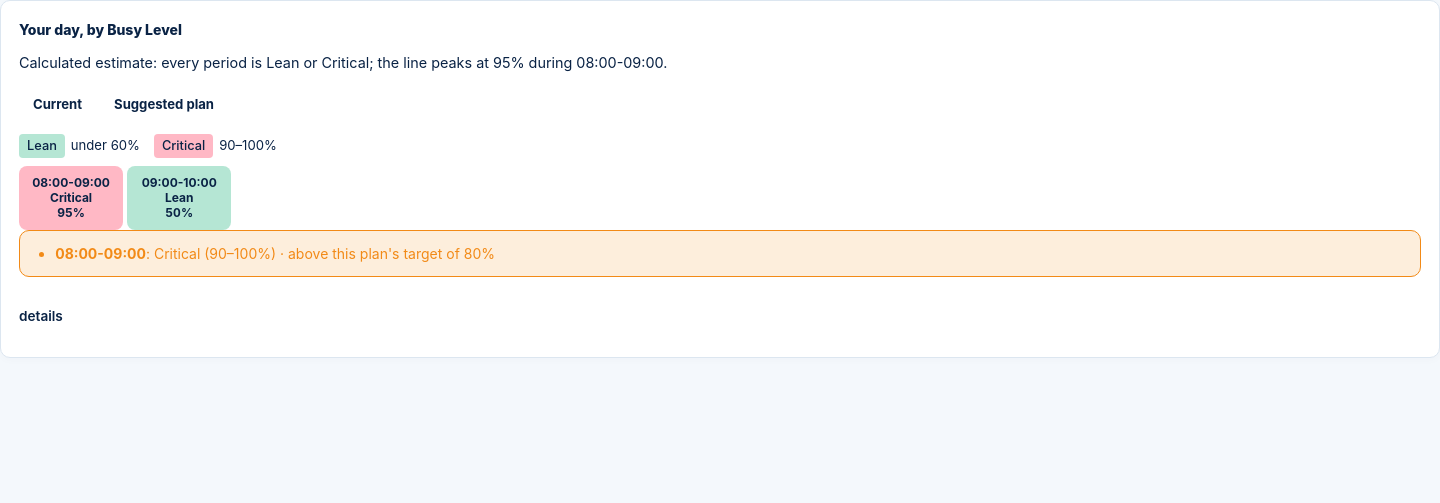
Scenario: Busy Level grid › shared: choosing a period shows the counter group, never cashier names, for Current and the plan
expect the text "Calculated estimate: every period is Lean or Critical; the line peaks at 95% during 08:00-09:00." is shown: met, box [19, 54, 667, 71]
expect the message reads "08:00-09:00: Critical (90–100%) · above this plan's target of 80%": met, box [19, 230, 1421, 277]
Click the button "08:00-09:00 Critical 95%". click: coordinates (71, 198)
box: [19, 166, 123, 230]
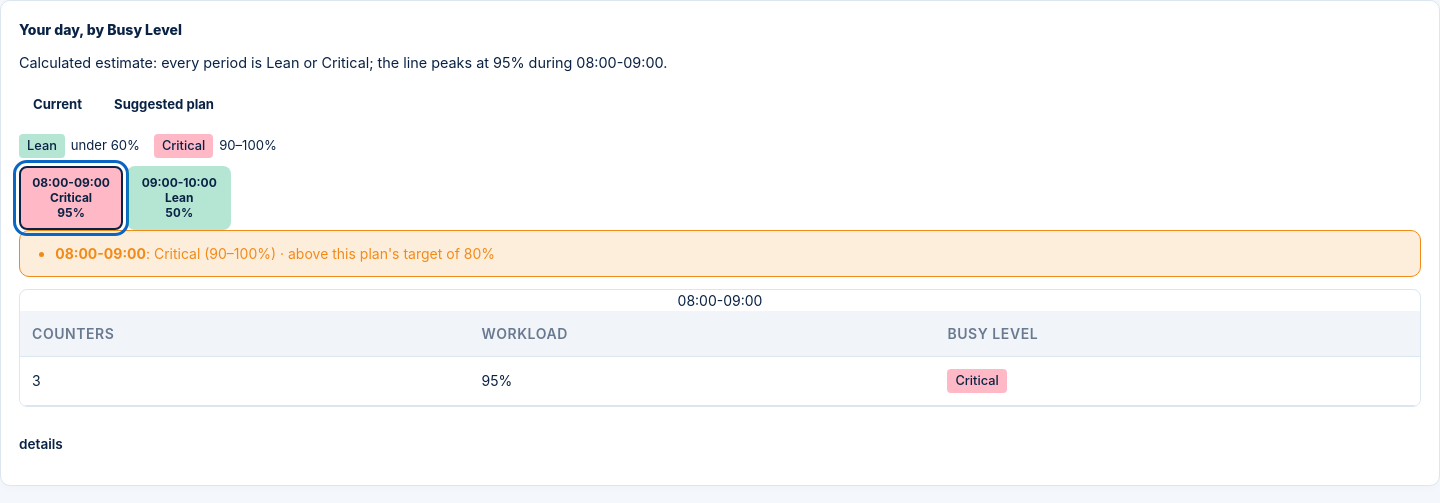
expect the column headings read "Counters", "Workload", "Busy level", in this order: met, box [20, 311, 470, 356]; [470, 311, 935, 356]; [935, 311, 1420, 356]
expect the row "3 95% Critical" is shown: met, box [20, 356, 1420, 405]
Click the button "Suggested plan". click: coordinates (164, 104)
box: [100, 82, 228, 126]
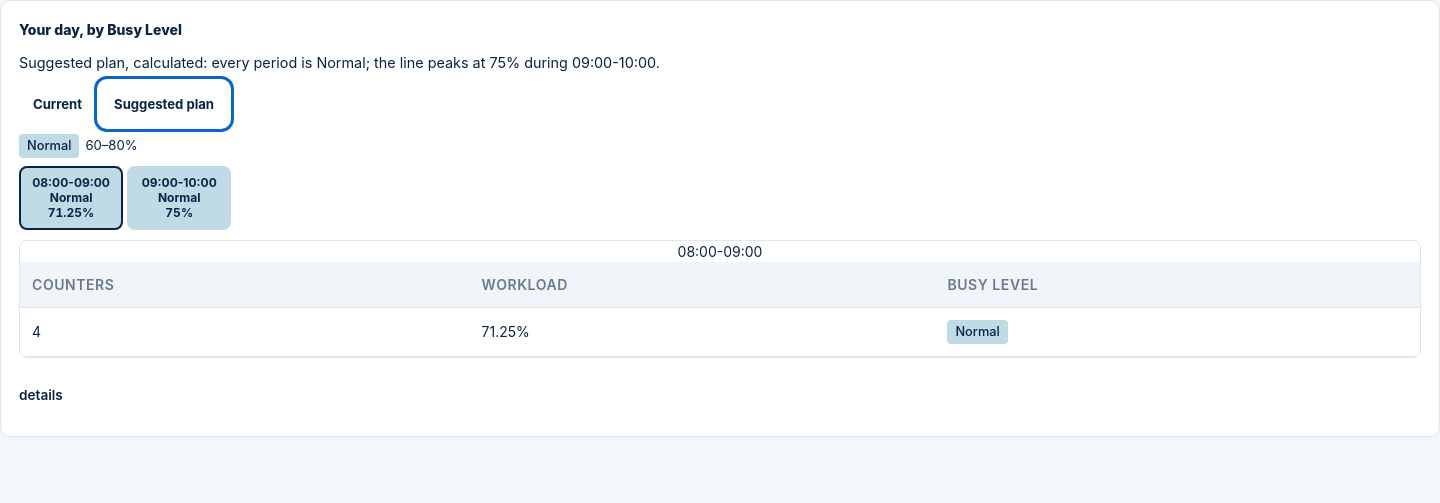
expect the text "Suggested plan, calculated: every period is Normal; the line peaks at 75% during 09:00-10:00." is shown: met, box [19, 54, 660, 71]
expect the message "08:00-09:00: Critical (90–100%) · above this plan's target of 80%" is gone: met
expect the list item "above this plan's target" is gone: met
Click the button "Current". click: coordinates (58, 104)
box: [19, 82, 96, 126]
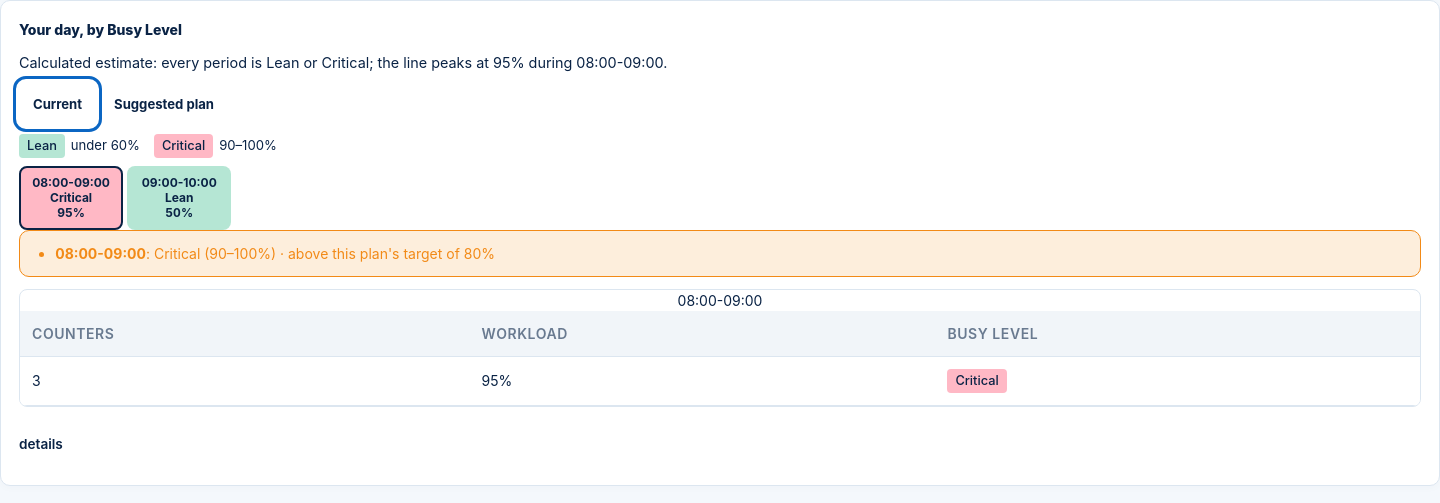
expect the message shows "08:00-09:00: Critical": met, box [19, 230, 1421, 277]
